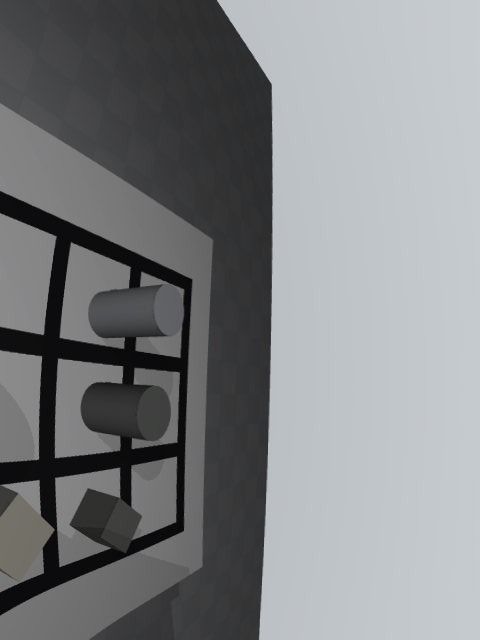can: (88, 284, 184, 338)
cube: (69, 488, 142, 553)
cylinder: (80, 382, 171, 441)
foam: (0, 484, 54, 582)
